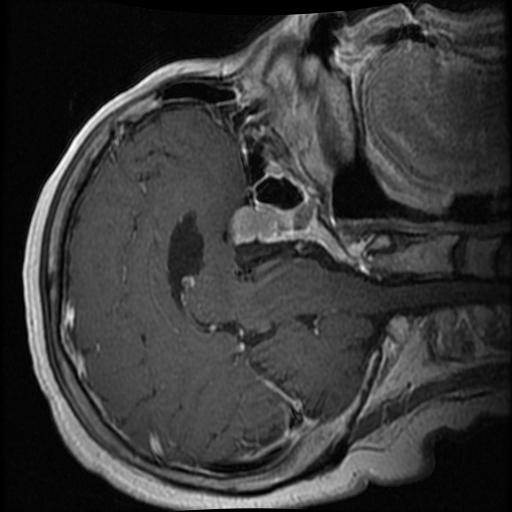pituitary tumour: (229, 208, 278, 242)
